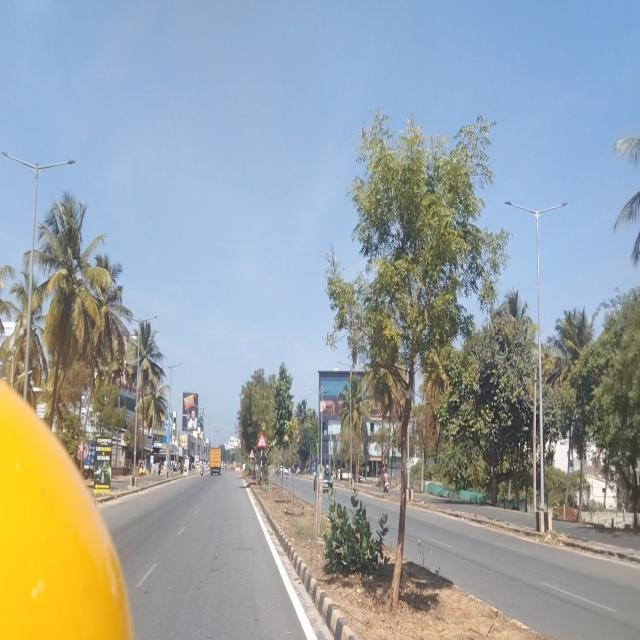bien_cam: (256, 431, 266, 449), (248, 446, 256, 461)
